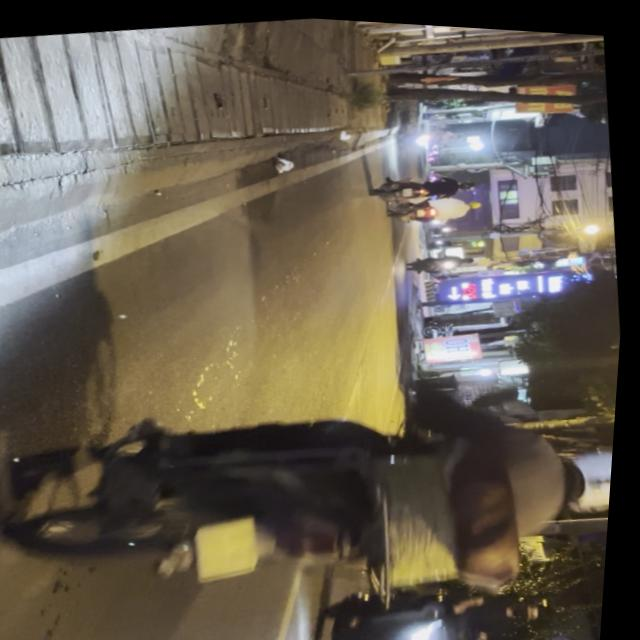helmet: (561, 437, 619, 509), (511, 590, 554, 618)
licenseplate: (0, 344, 622, 635), (311, 553, 561, 640)
nohelmet: (201, 511, 270, 581)
